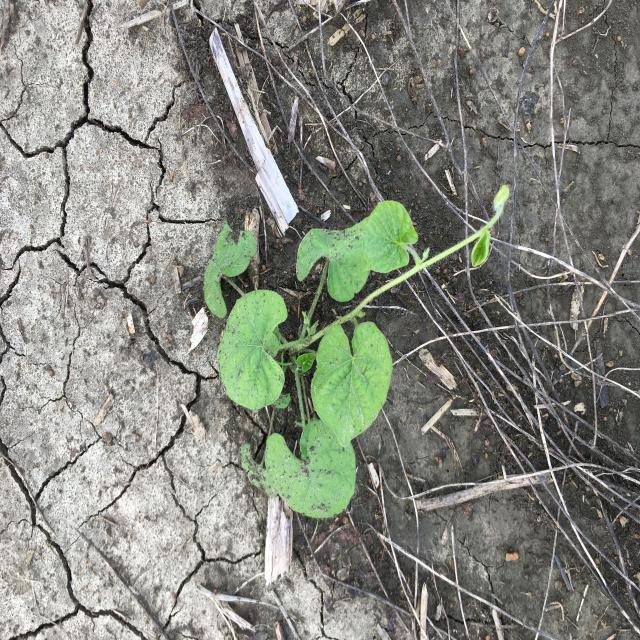MorningGlory: (203, 181, 512, 522)
